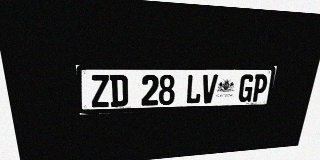2: (141, 75, 159, 106)
8: (158, 75, 176, 105)
D: (110, 75, 128, 107)
G: (237, 74, 255, 102)
L: (185, 74, 203, 104)
P: (251, 74, 269, 102)
V: (200, 74, 218, 104)
Z: (90, 75, 110, 108)
